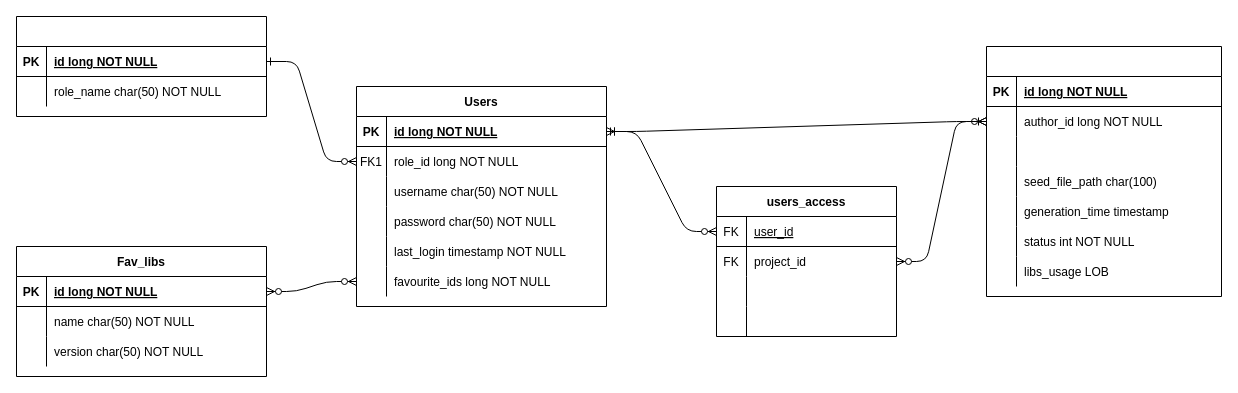
This 1238x393 diagram has some shape labels left out. Each missing label, with the box of its shape:
generated_projects: (986, 46, 1222, 296)
Roles: (16, 16, 266, 116)
